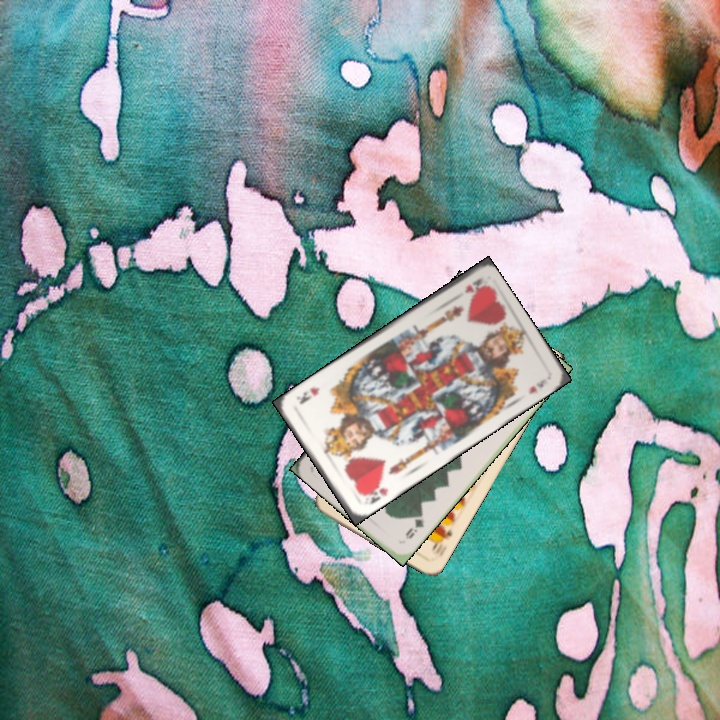E10: (427, 523, 454, 557)
G9: (401, 508, 427, 542)
HK: (359, 478, 391, 507), (460, 274, 487, 296)
